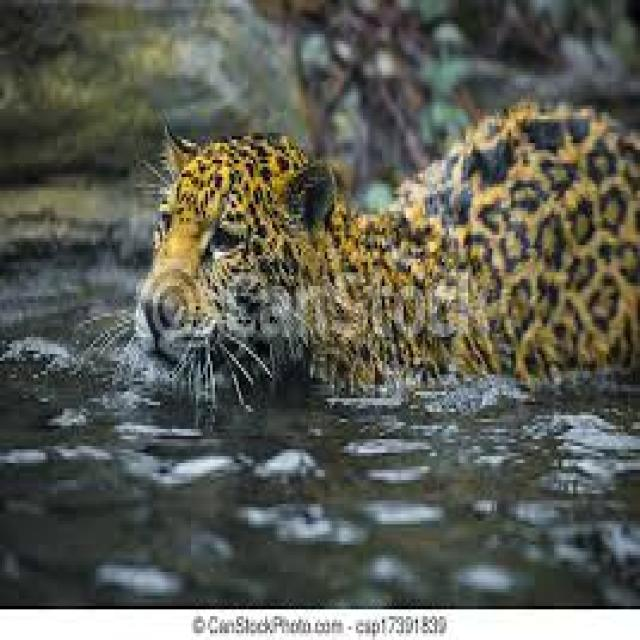Jaguar: (136, 119, 640, 415)
